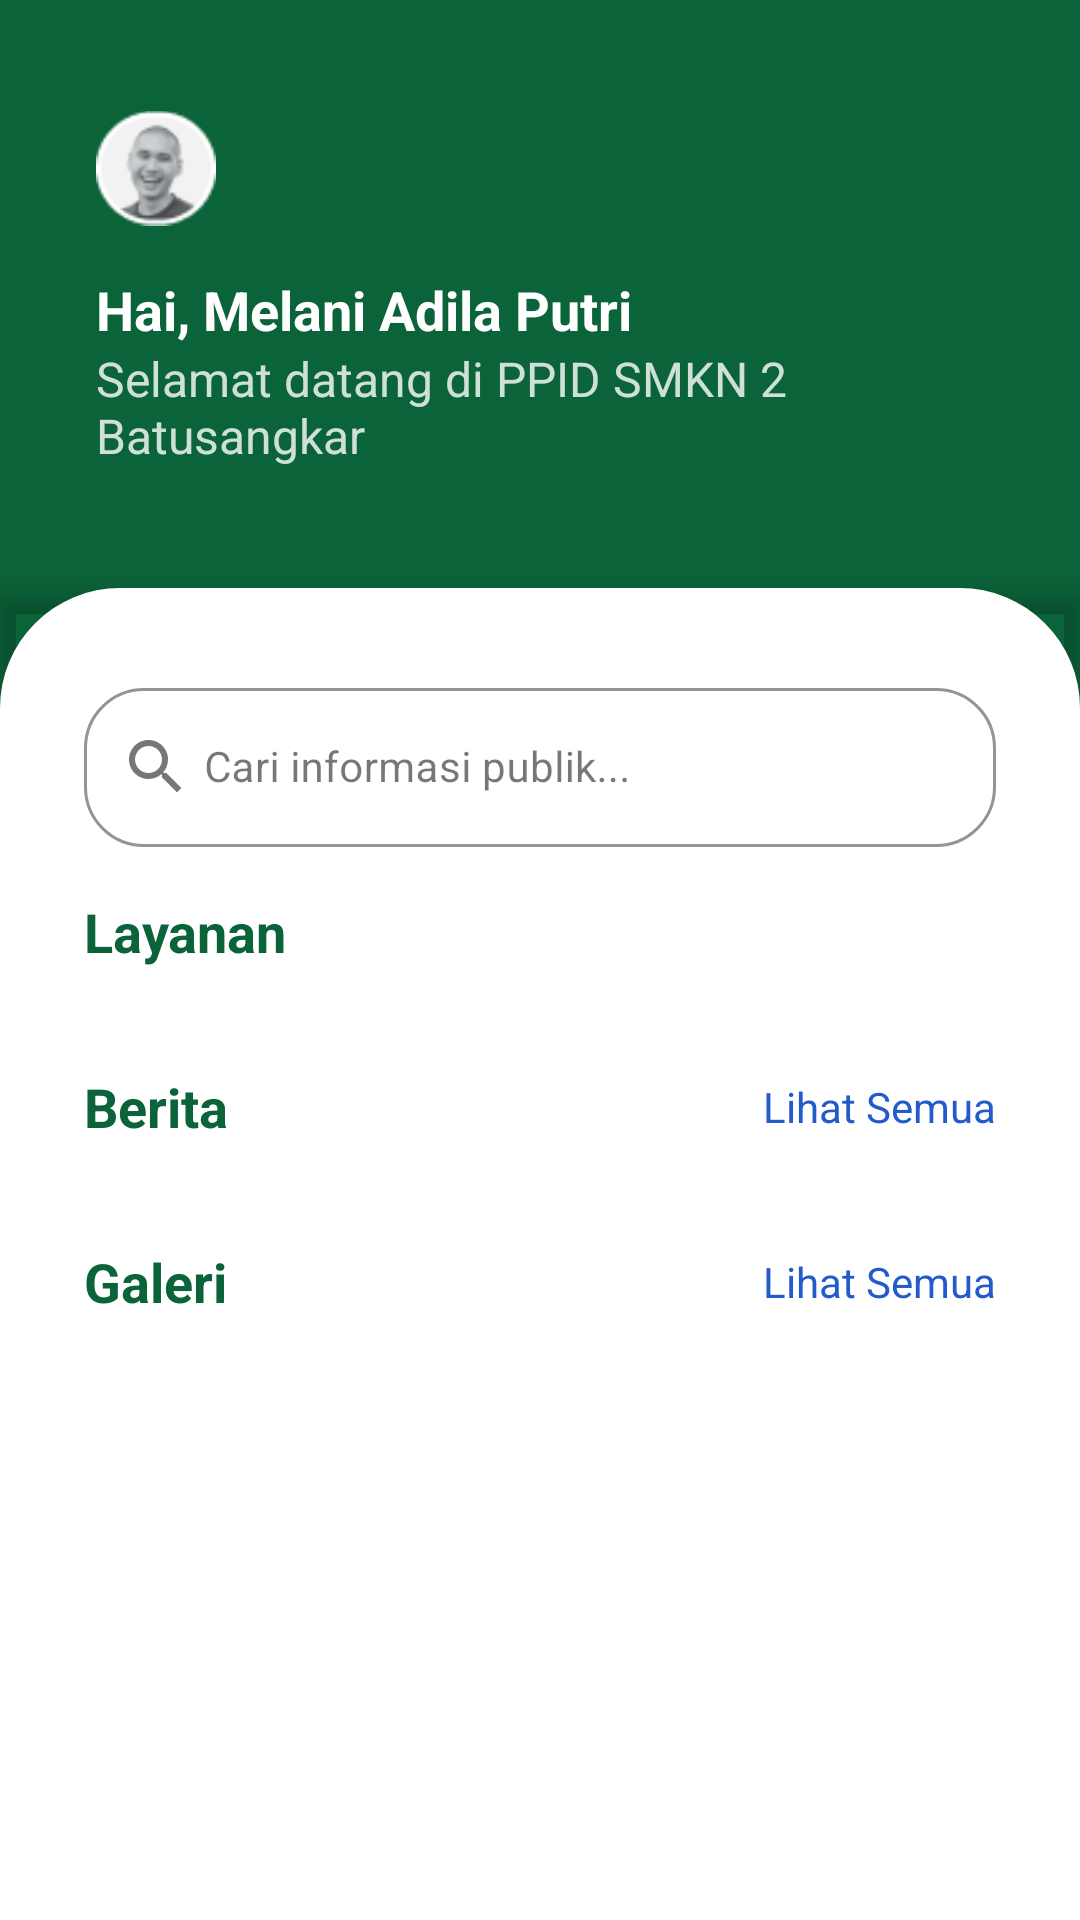

Named icons in this screenshot (1080 × 1920) and their centers, [x,y]:
Foto Profil: [156,168]
